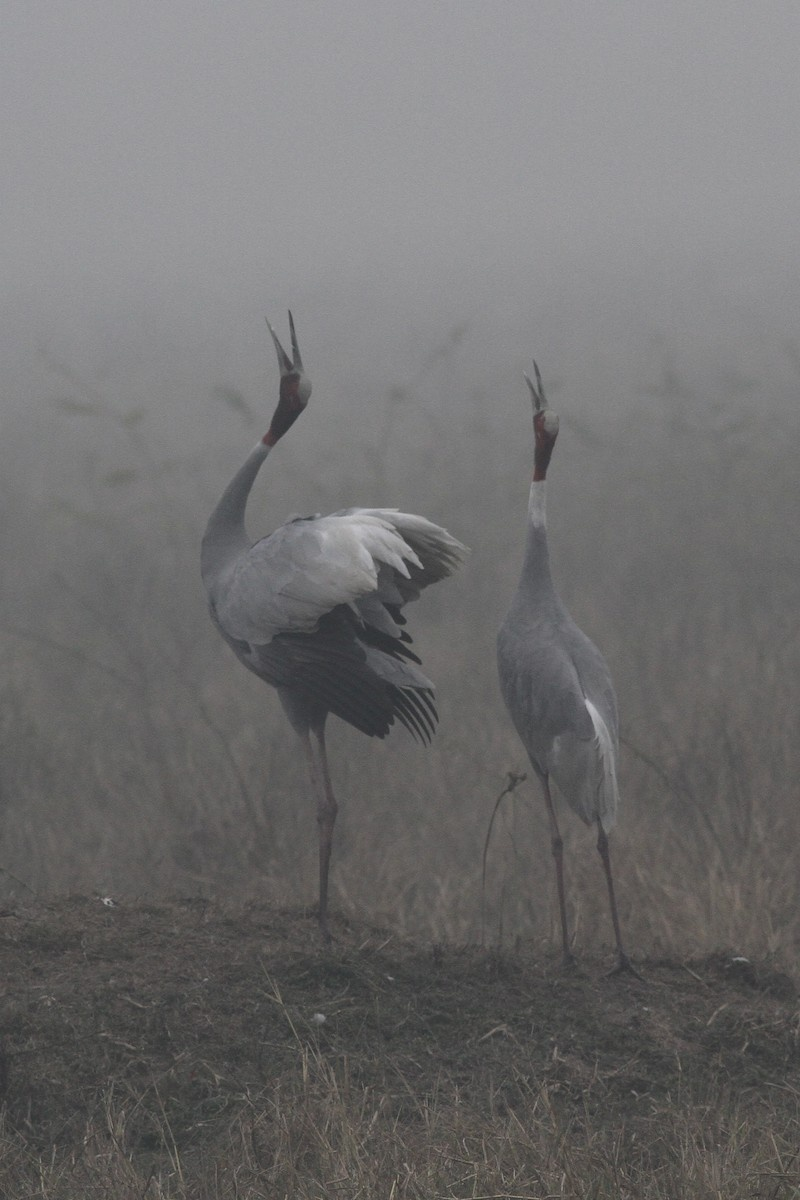crane: (214, 293, 448, 932), (490, 350, 667, 985)
